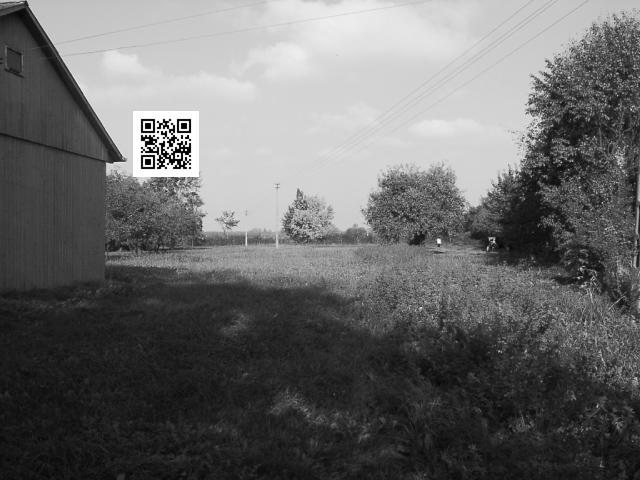qr_code: (133, 110, 199, 176)
